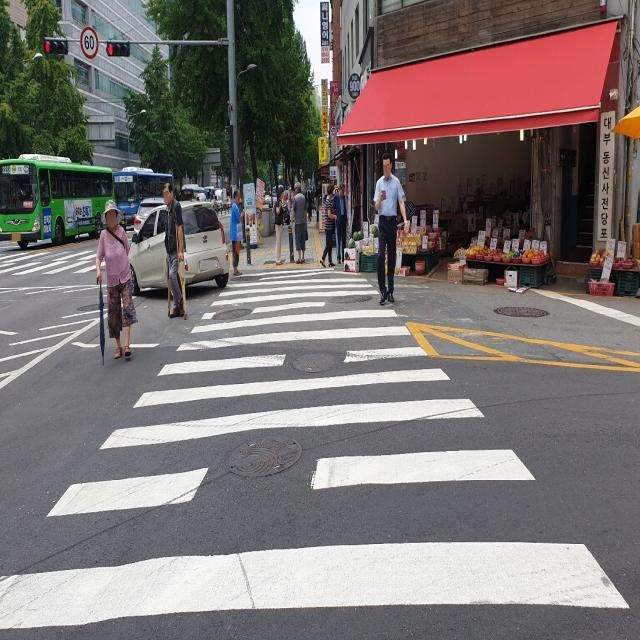횡단보도: (0, 266, 632, 629)
